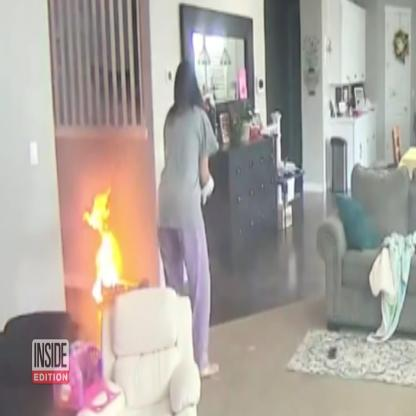fire: (84, 185, 124, 304)
